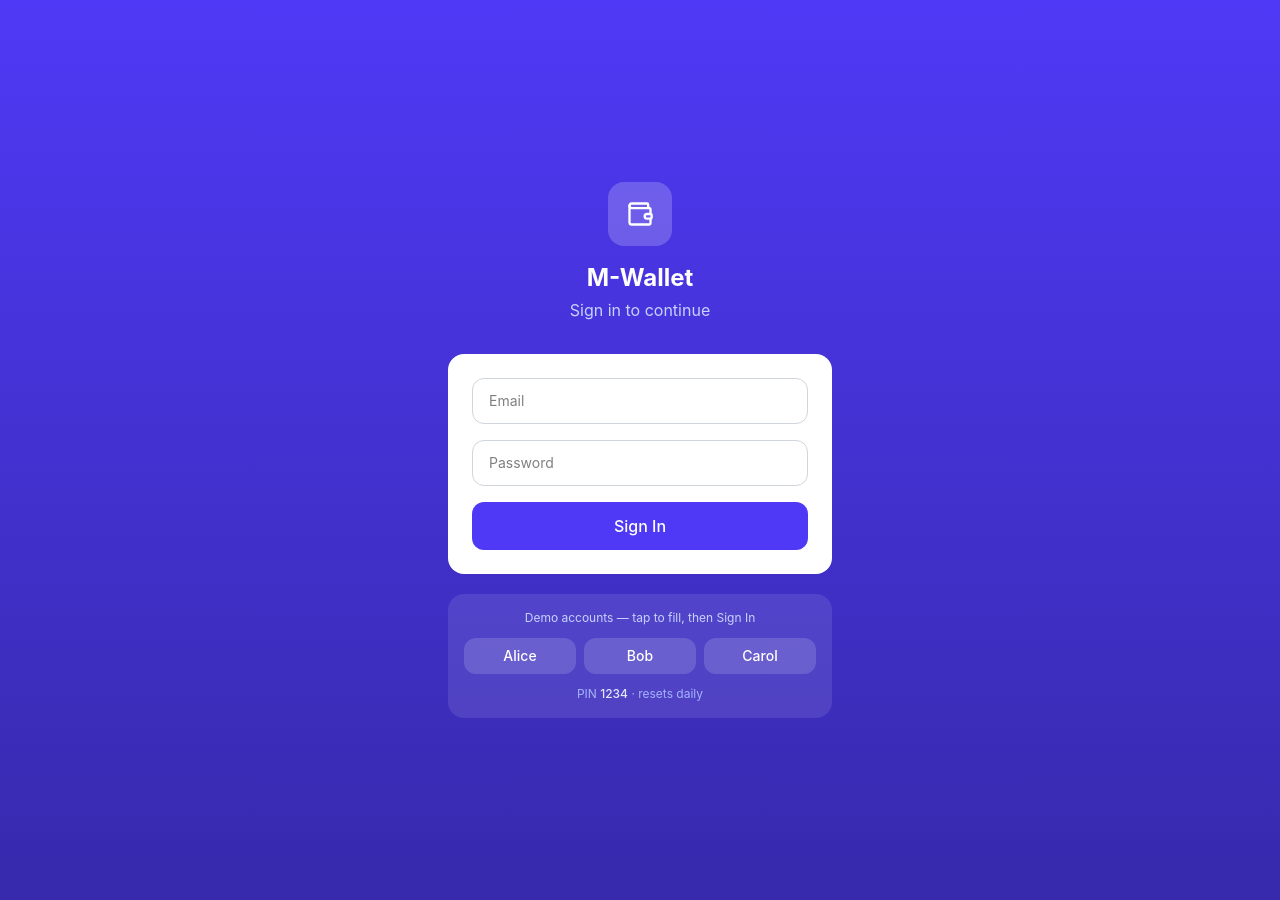
Test case: LoginPage › fills the form with the right credentials for each demo chip
Click the button "Alice" at (520, 656), box [464, 638, 576, 674]
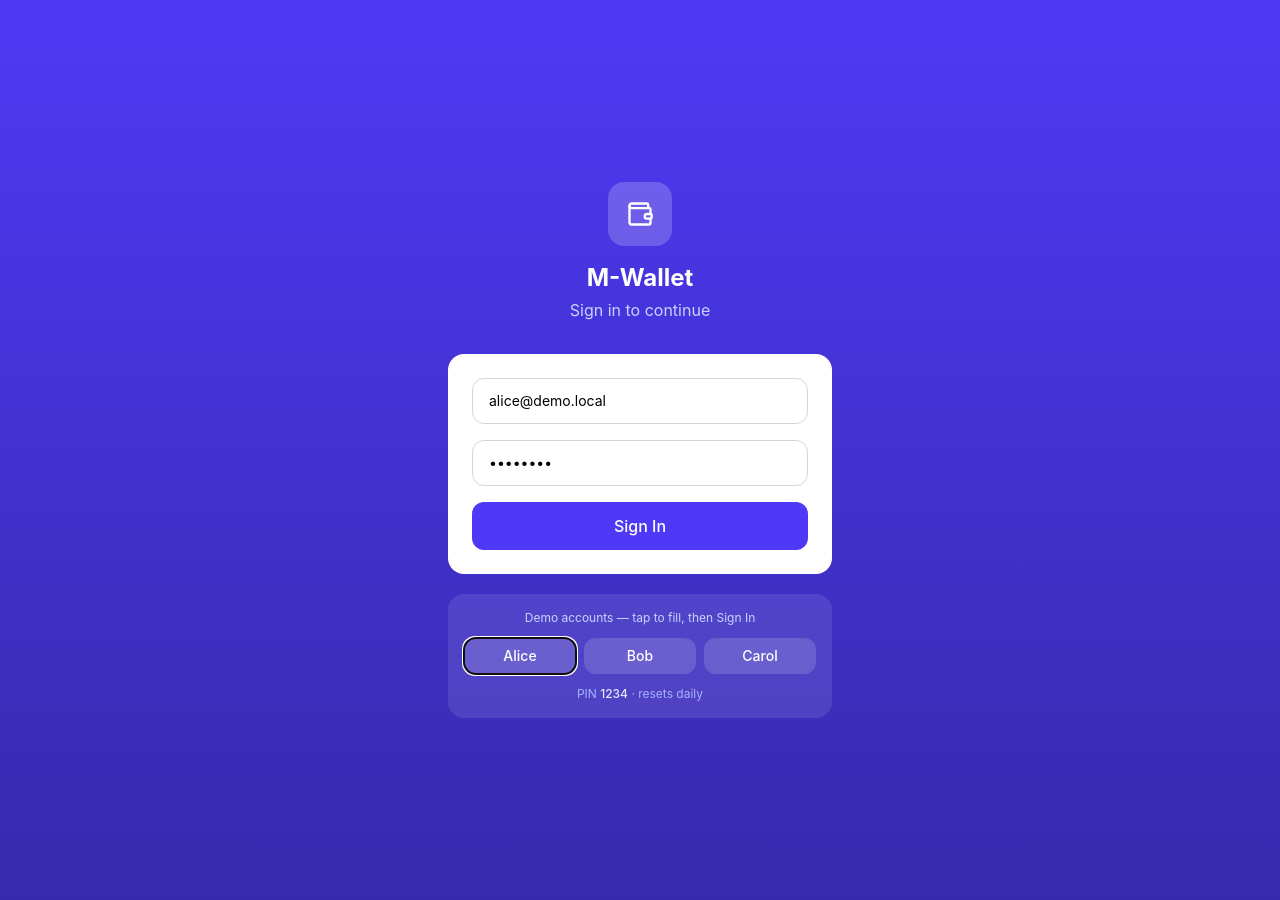
Check: the field with placeholder "Email" holds "alice@demo.local", box [472, 378, 808, 424]
Check: the password field with placeholder "Password" holds "pass1234", box [472, 440, 808, 486]
Click the button "Bob" at (640, 656), box [584, 638, 696, 674]
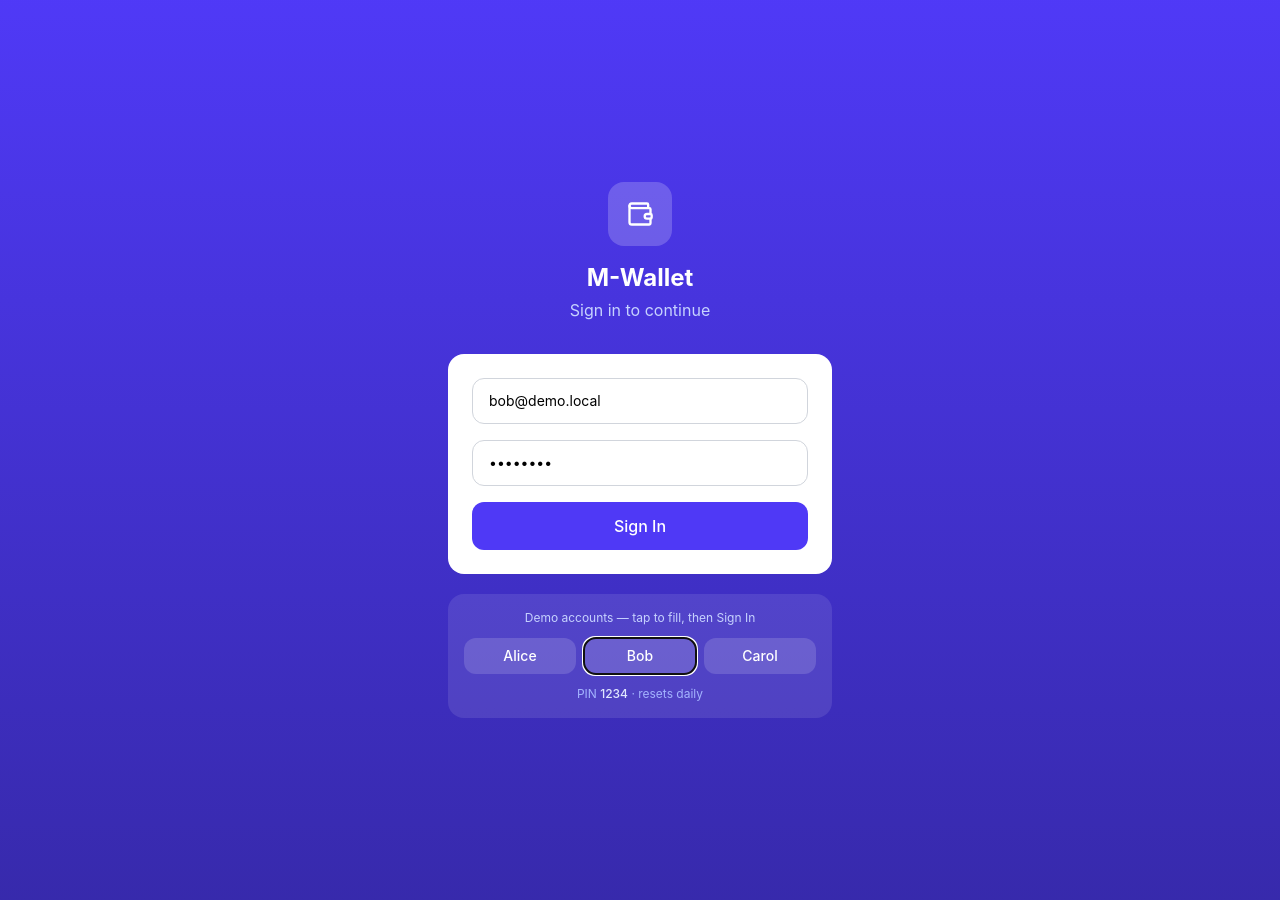
Check: the password field with placeholder "Password" holds "pass1234", box [472, 440, 808, 486]
Check: the field with placeholder "Email" holds "bob@demo.local", box [472, 378, 808, 424]
Click the button "Carol" at (760, 656), box [704, 638, 816, 674]
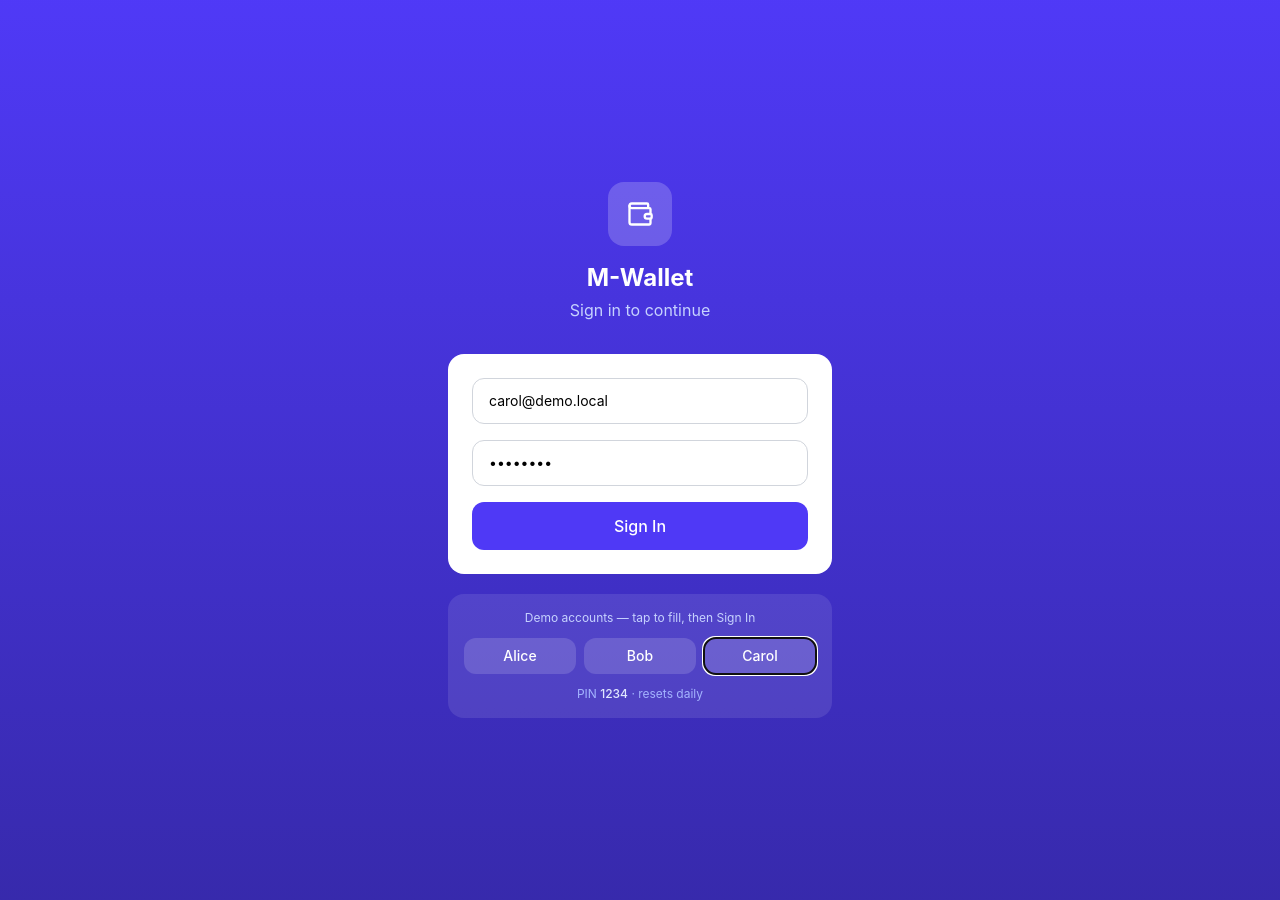
Check: the password field with placeholder "Password" holds "pass1234", box [472, 440, 808, 486]
Check: the field with placeholder "Email" holds "carol@demo.local", box [472, 378, 808, 424]
